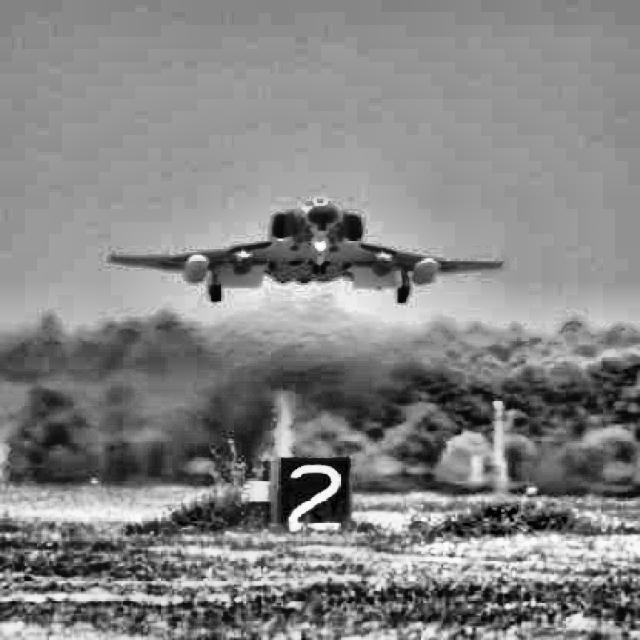F4: (108, 196, 504, 304)
